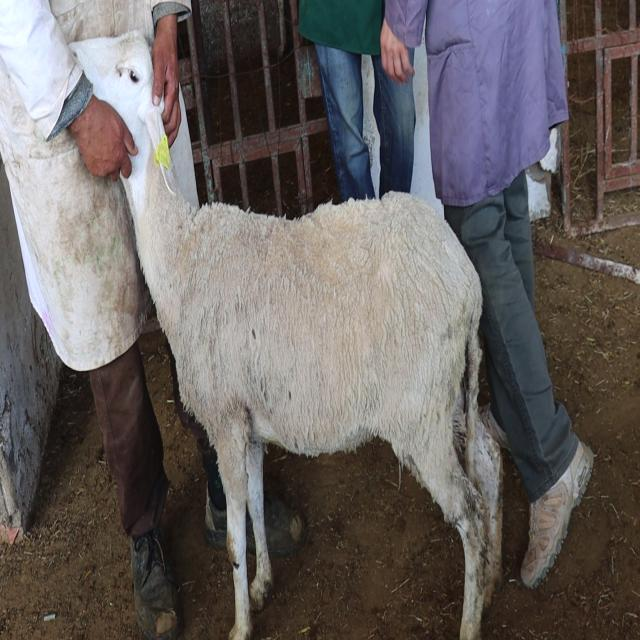Score_1: (71, 31, 502, 639)
